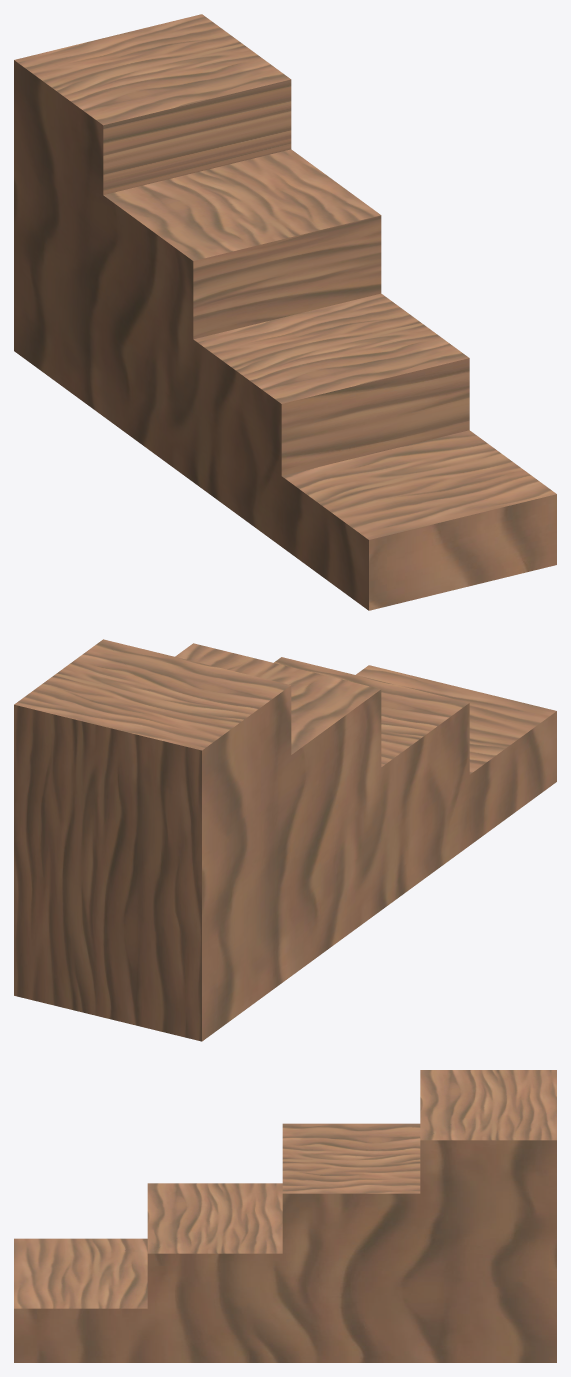
File: stairs.obj
3 views of the same model, one above another, from view 1: azimuth 30°, elevation 25°; view 2: azimuth 150°, elevation 25°; view 3: azimuth 270°, elevation 25° (orthographic). The views are drawn at different scales.
Visible parts, largest first — view 1: Cube_Cube.029; view 2: Cube_Cube.029; view 3: Cube_Cube.029.
Part boxes in pixels (left/top/right/bottom): Cube_Cube.029: left=14, top=14, right=556, bottom=610; Cube_Cube.029: left=14, top=639, right=556, bottom=1041; Cube_Cube.029: left=14, top=1070, right=556, bottom=1362.
Bounding box in the file's own units: 1.48 × 2.19 × 4.85.
